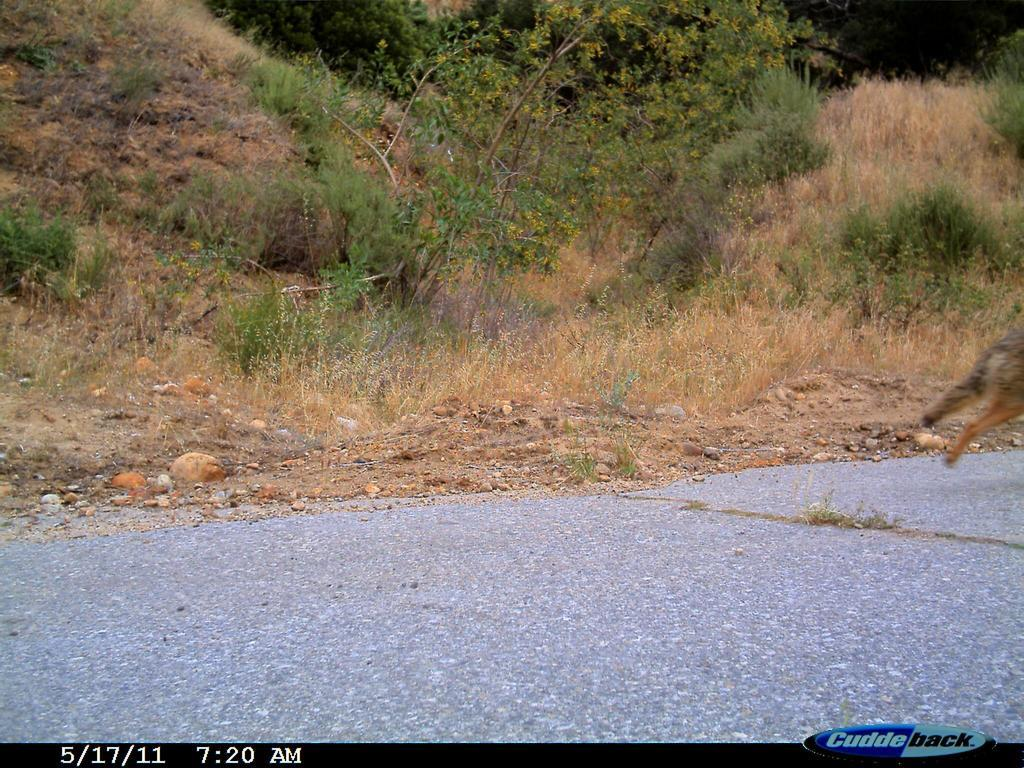coyote: (914, 295, 1024, 480)
